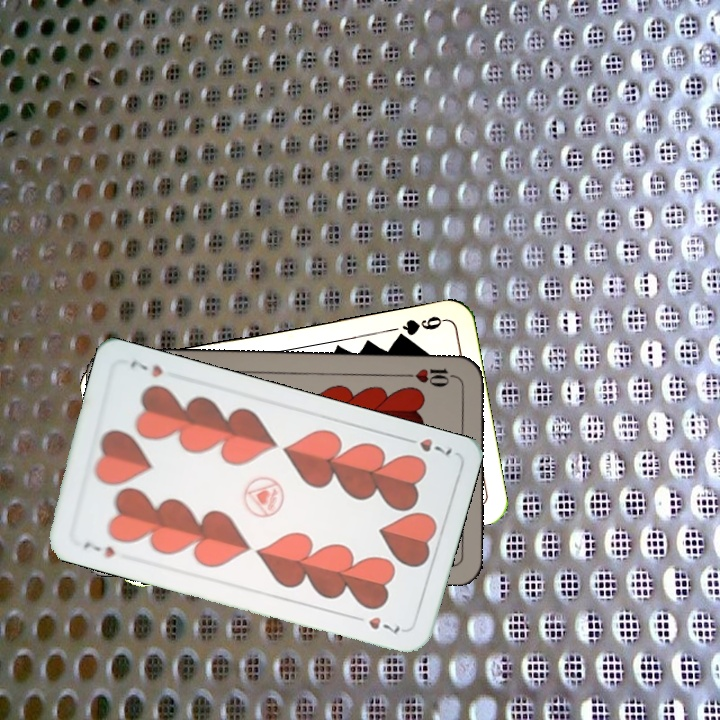G9: (391, 312, 448, 344)
H10: (401, 364, 460, 390)
H7: (399, 433, 455, 458), (80, 537, 118, 561)
